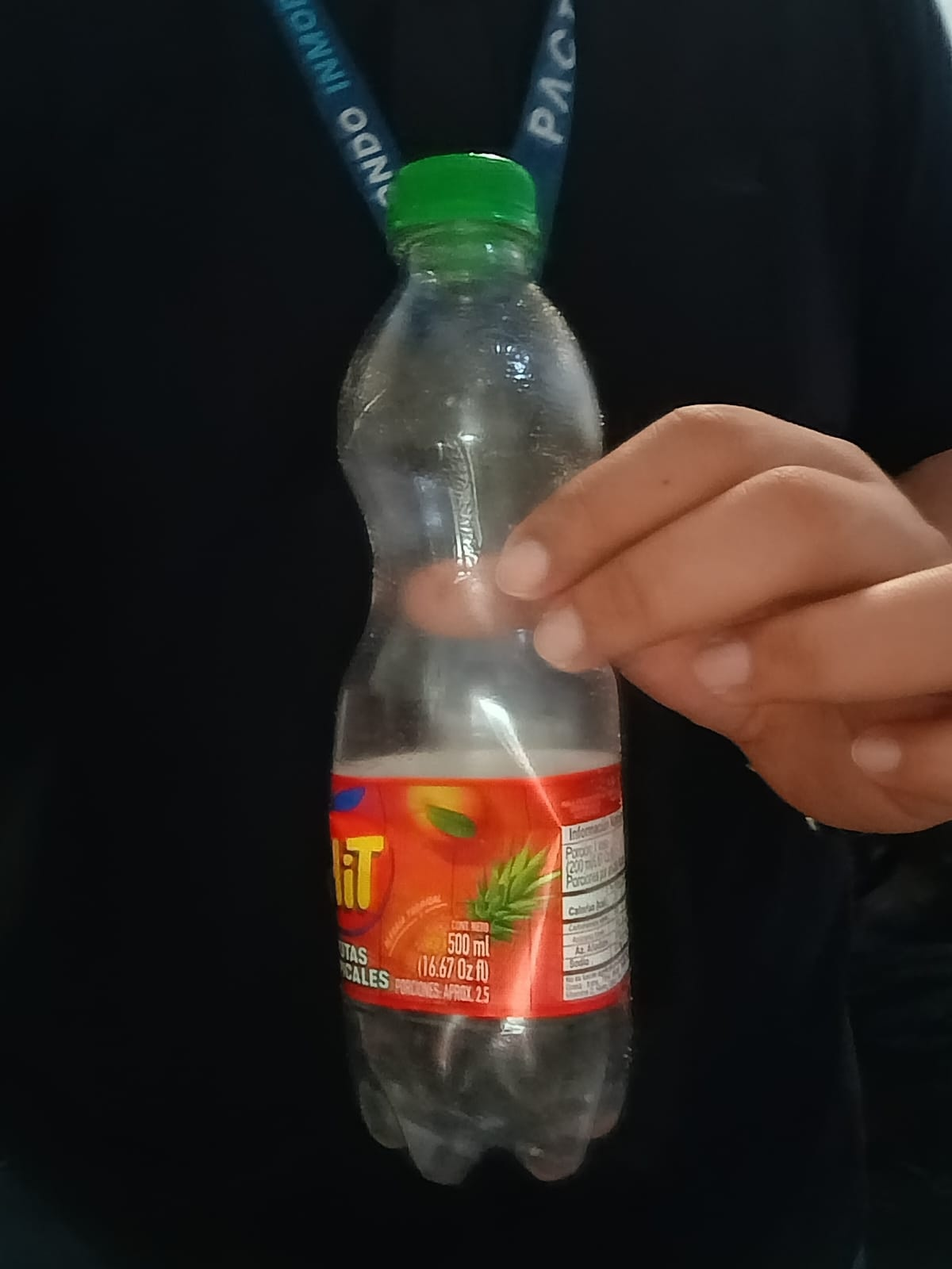Plastico: (331, 154, 634, 1184)
